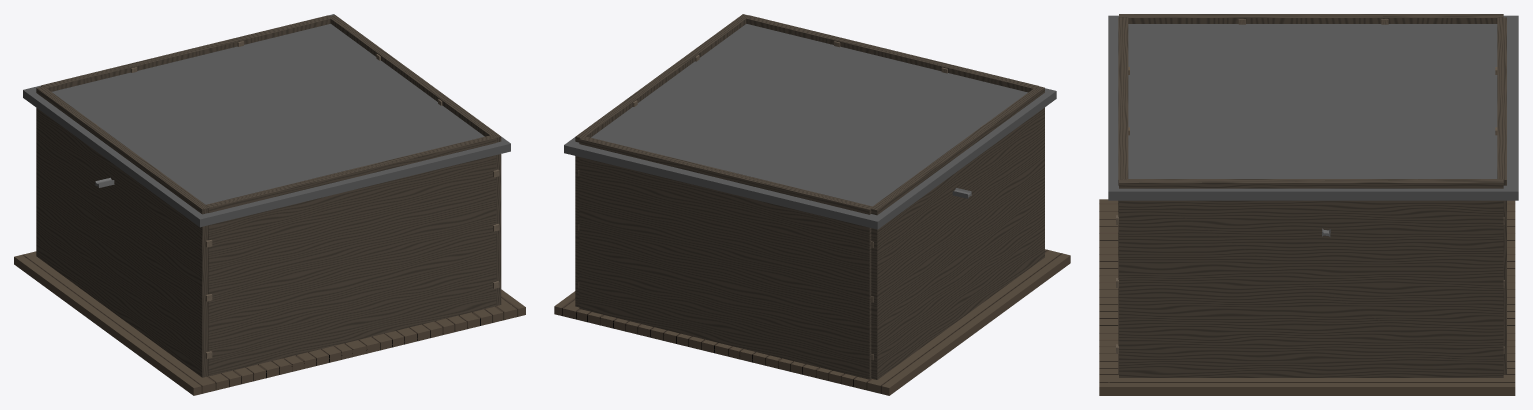
File: SALA DE JUEGO 7.fbx
3 views of the same model, side by side, from view 1: azimuth 30°, elevation 25°; view 2: azimuth 150°, elevation 25°; view 3: azimuth 270°, elevation 25° (orthographic). The views are drawn at different scales.
Visible parts, largest first — view 1: techo, pared 3.003, pared 3, suelo, pared 3.001, Cube.001; view 2: techo, Cube.001, pared 3, suelo, pared 3.001, pared 3.003; view 3: pared 3.001, techo, suelo, pared 3, Cube.001, pared 3.003.
Boxes of the visible parts, box(x1,y1,x2,y2) form: techo: box(23, 14, 510, 227); pared 3.003: box(204, 135, 496, 376); pared 3: box(36, 86, 212, 377); suelo: box(14, 251, 525, 395); pared 3.001: box(328, 15, 501, 305); Cube.001: box(41, 15, 330, 91); techo: box(564, 24, 1056, 229); Cube.001: box(579, 136, 872, 379); pared 3: box(870, 86, 1044, 379); suelo: box(554, 249, 1070, 395); pared 3.001: box(575, 14, 749, 307); pared 3.003: box(745, 15, 1038, 92); pared 3.001: box(1116, 179, 1504, 377); techo: box(1108, 15, 1518, 200); suelo: box(1099, 199, 1515, 395); pared 3: box(1119, 14, 1503, 24); Cube.001: box(1495, 17, 1506, 374); pared 3.003: box(1118, 17, 1129, 374).
Bounding box in the file's own units: 10.47 × 5.31 × 9.89.
